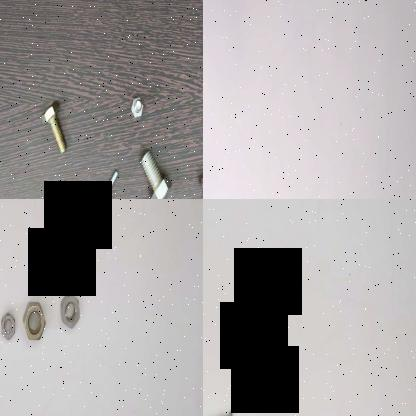Bolts: (132, 148, 175, 199), (40, 101, 71, 156), (92, 167, 120, 199), (127, 95, 148, 122), (203, 404, 235, 416)
NUTS: (22, 298, 48, 342), (60, 291, 84, 332), (0, 307, 19, 343)
